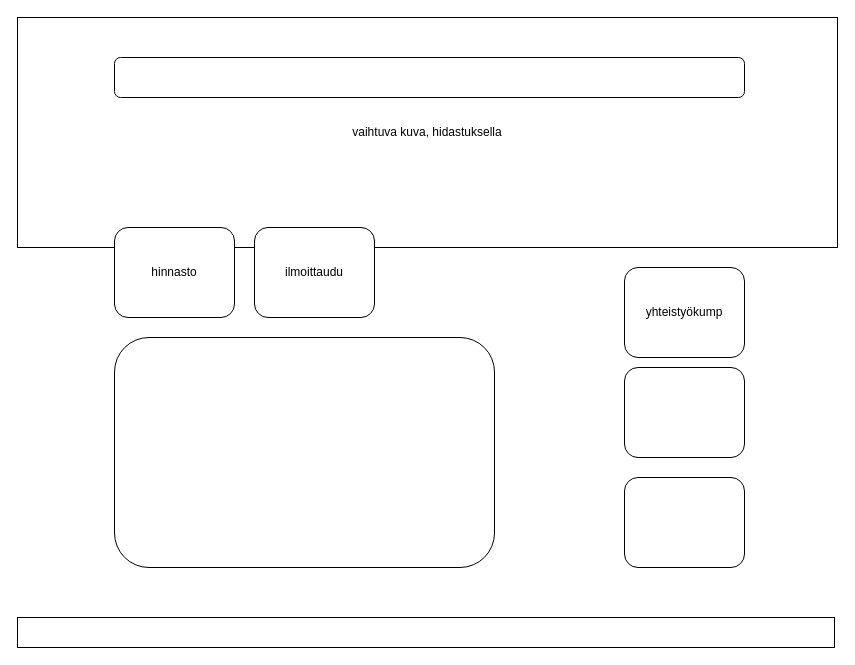
The diagram is 855 pixels wide and 665 high, and some of its shapes have lost their labels. The centre of each missing label's shape, as x and y in pixels:
seminaari ja logo: (429,77)
tekstiä: (304,452)
